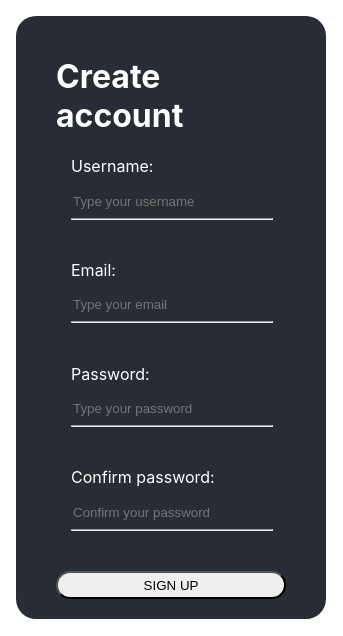
Test: UserRegisterForm component › handles successful registration with email integration
Type "testuser" into the field labelled "Username:" at (162, 201), box [71,193,252,210]
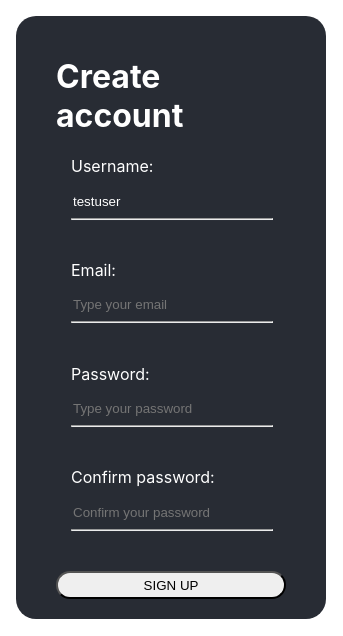
Type "test@example.com" into the field labelled "Email:" at (162, 305), box [71,296,252,313]
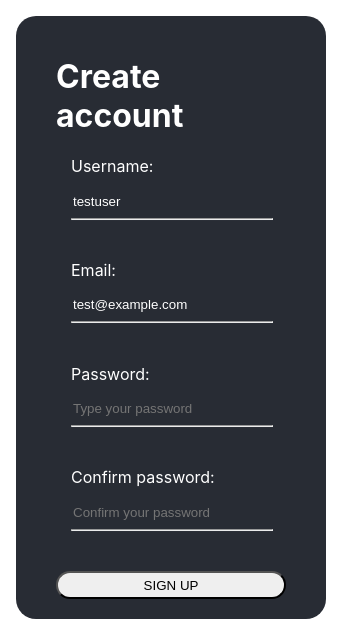
Type "secret" into the password field labelled "Password:" at (162, 408), box [71,400,252,417]
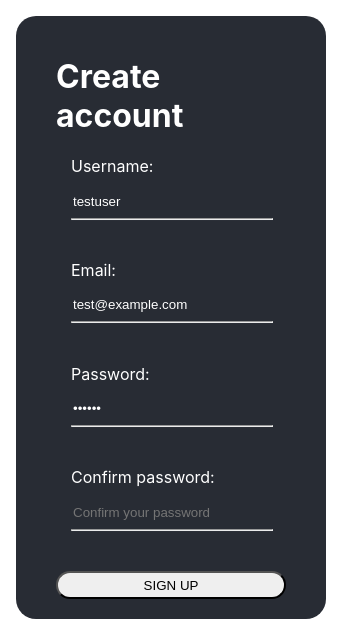
Type "secret" into the password field labelled "Confirm password:" at (162, 512), box [71,504,252,521]
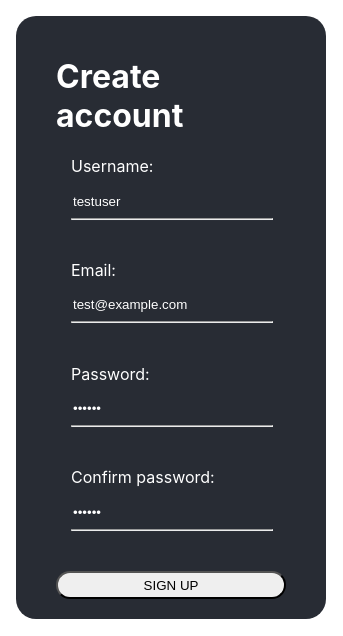
Click the button "SIGN UP" at (171, 585), box [56,571,286,599]
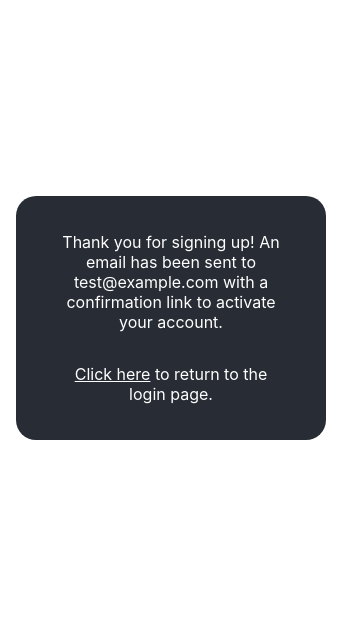
Result: the text "Thank you for signing up! An email has been sent to" is shown at [62,232,280,332]
